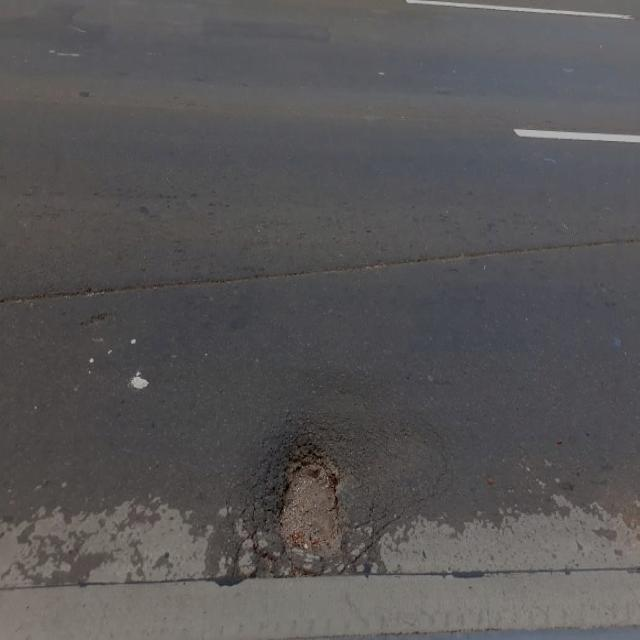Buraco: (262, 439, 352, 565)
